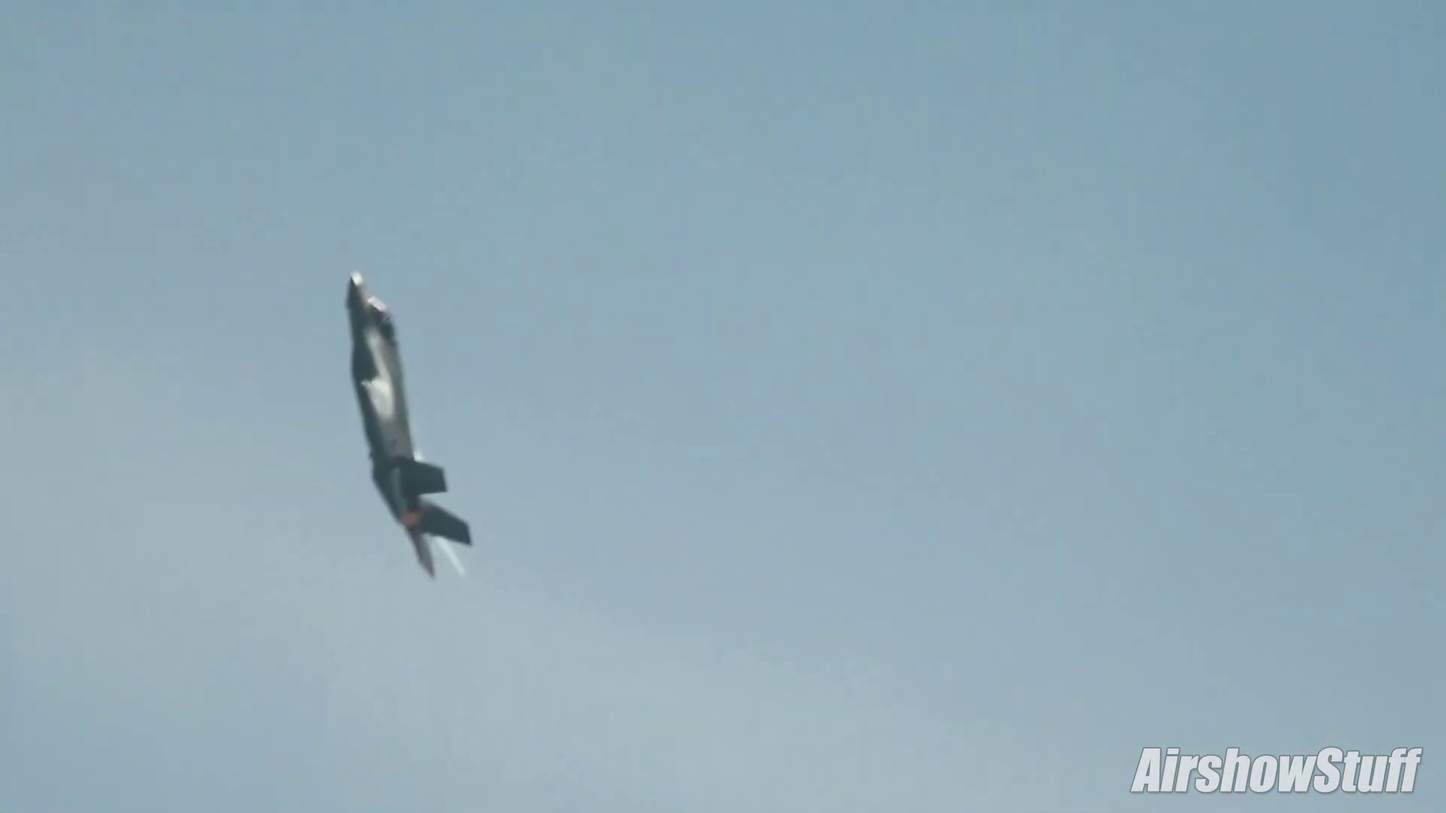F35: (339, 267, 480, 586)
